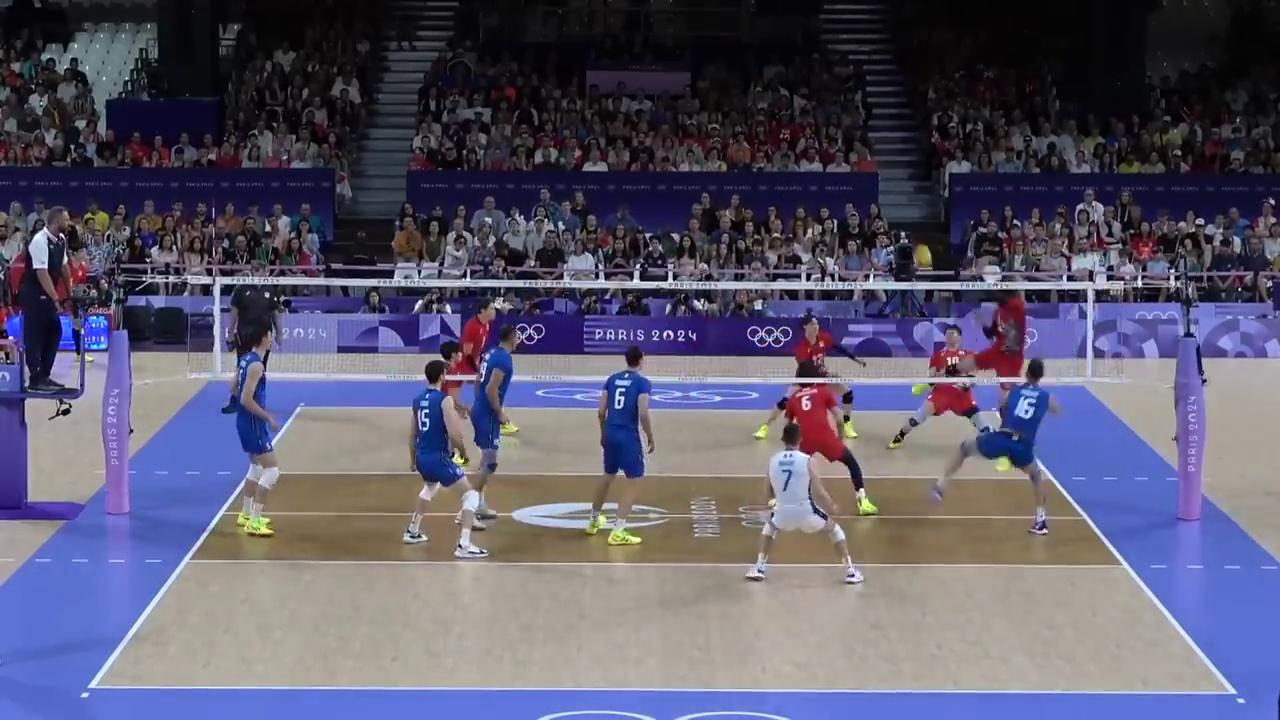ball: (911, 243, 933, 271)
